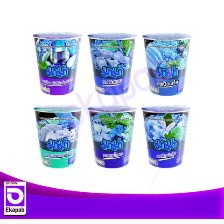paper_cup: (137, 99, 194, 172), (137, 27, 194, 99), (83, 26, 140, 98), (83, 99, 139, 171), (29, 100, 85, 172), (29, 25, 85, 97)
